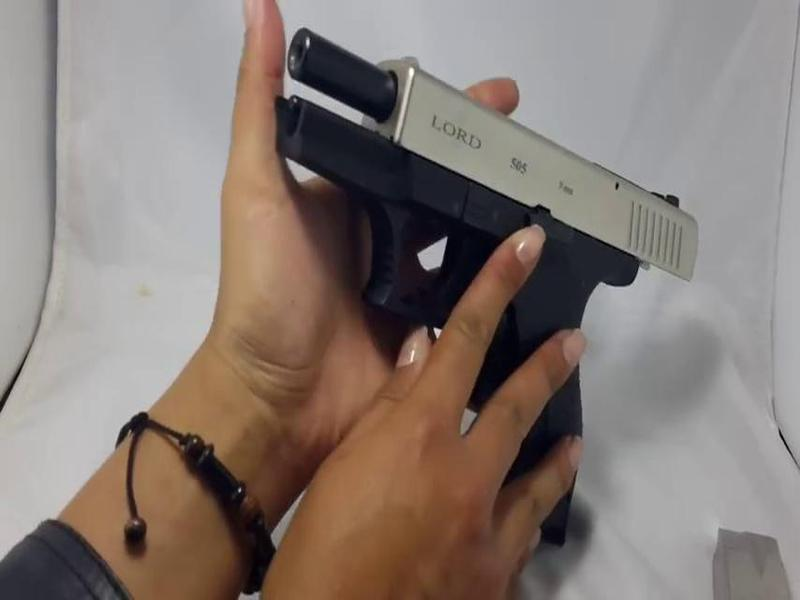Pistola: (247, 21, 717, 549)
